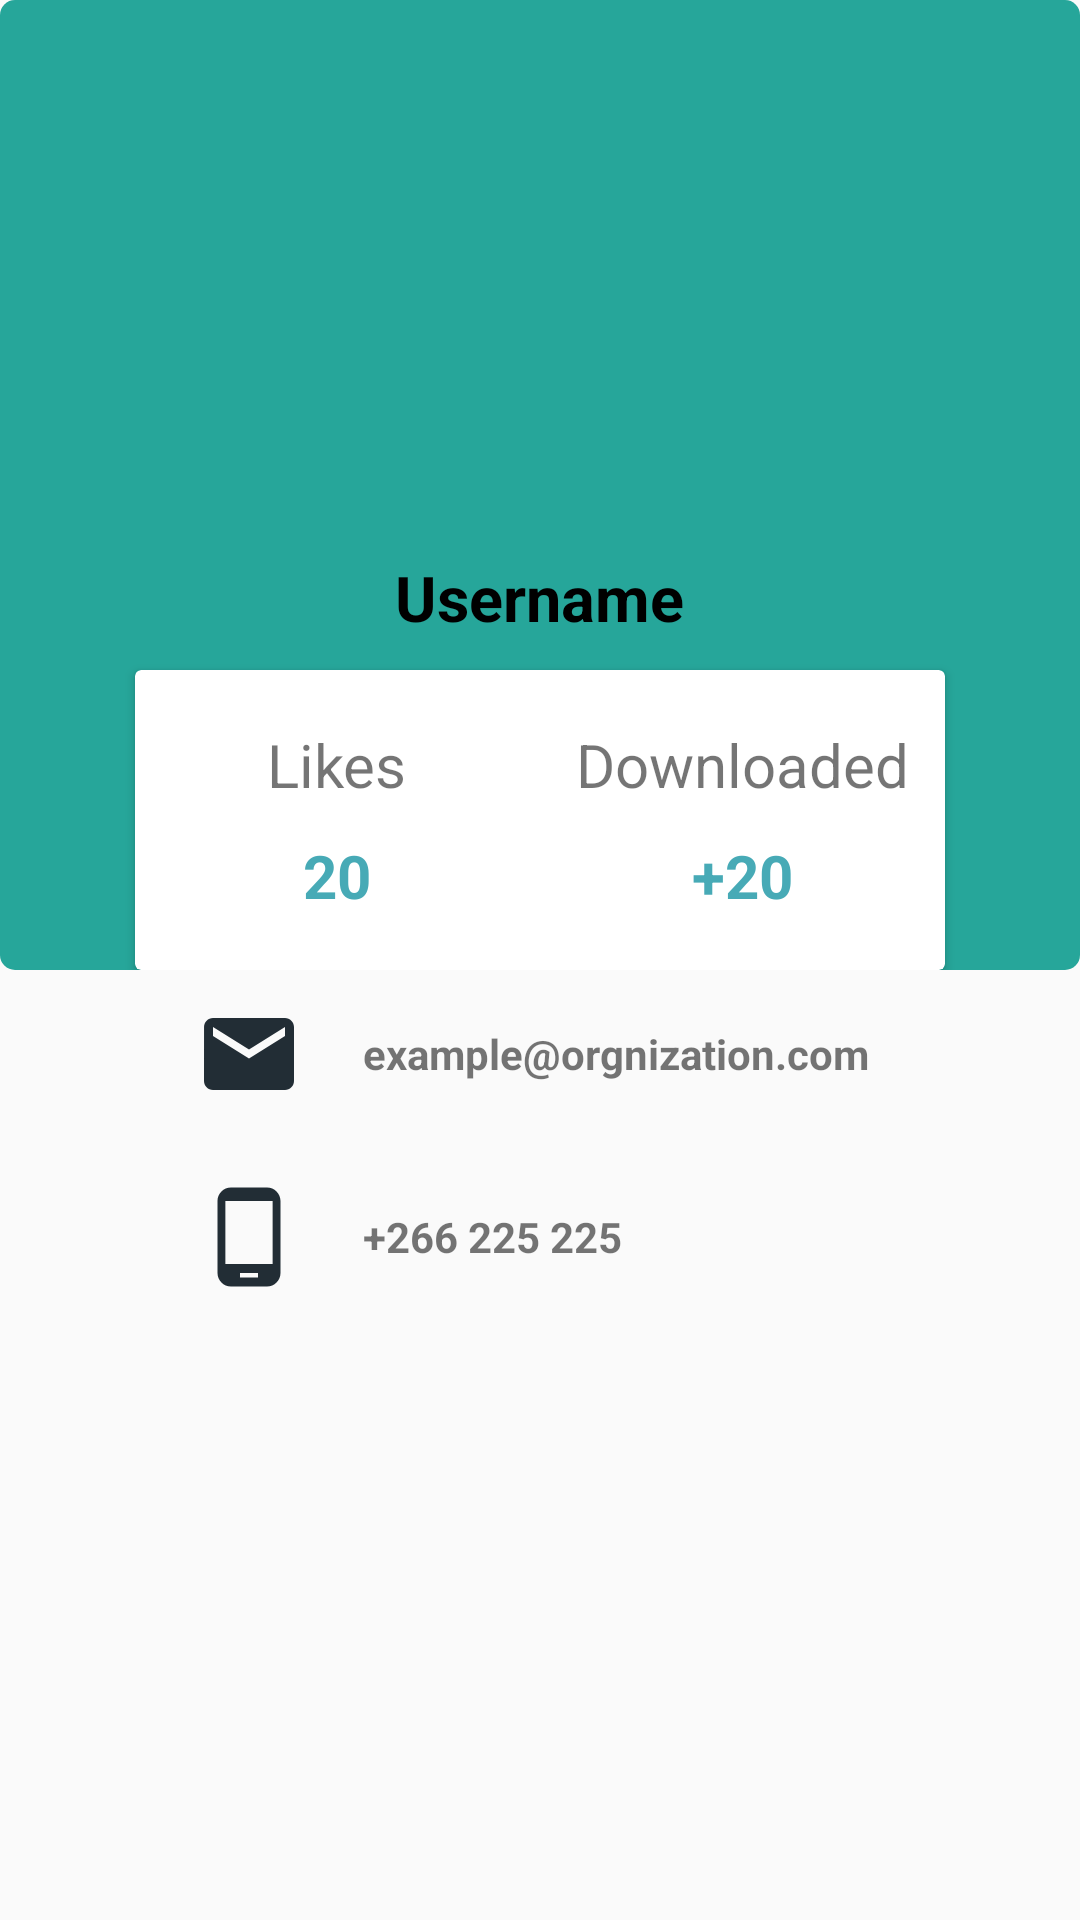

Icons on this 1080px×1920px Android screen, each with the point to tap as (x=x, y=y):
email hint: (x=249, y=1054)
phone num: (x=249, y=1237)
